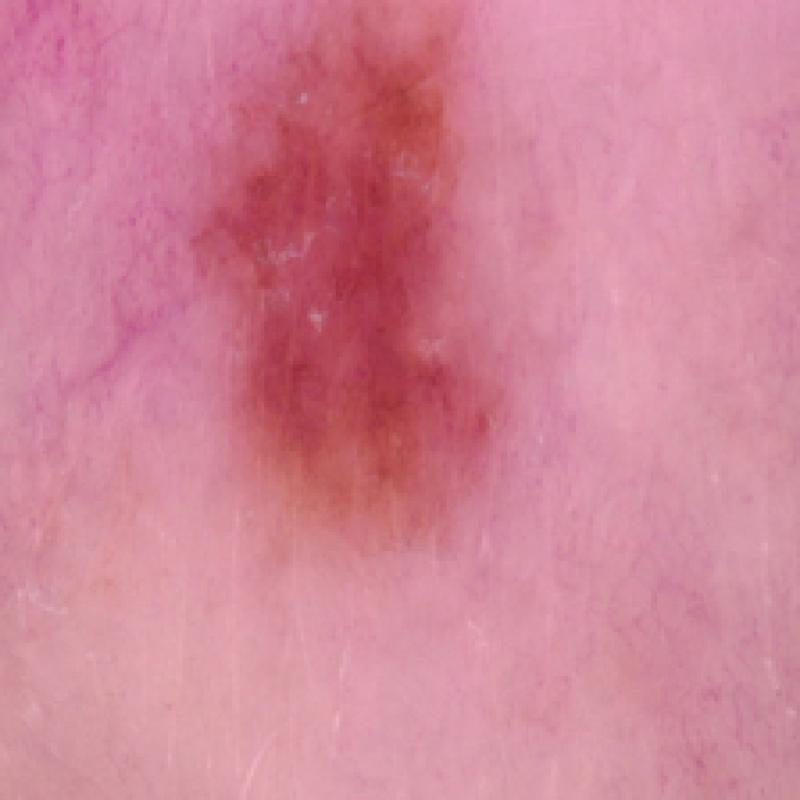benign: (164, 4, 554, 601)
